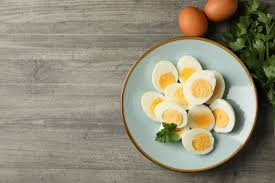Telur rebus: (183, 67, 215, 106), (180, 129, 217, 156), (155, 100, 189, 127), (213, 98, 238, 133), (154, 57, 176, 92), (188, 105, 215, 130), (162, 81, 186, 104)
